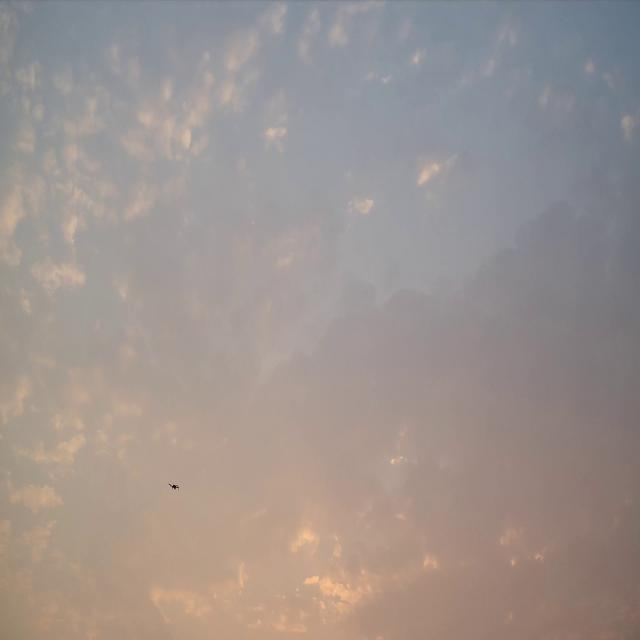UAV: (168, 483, 180, 490)
